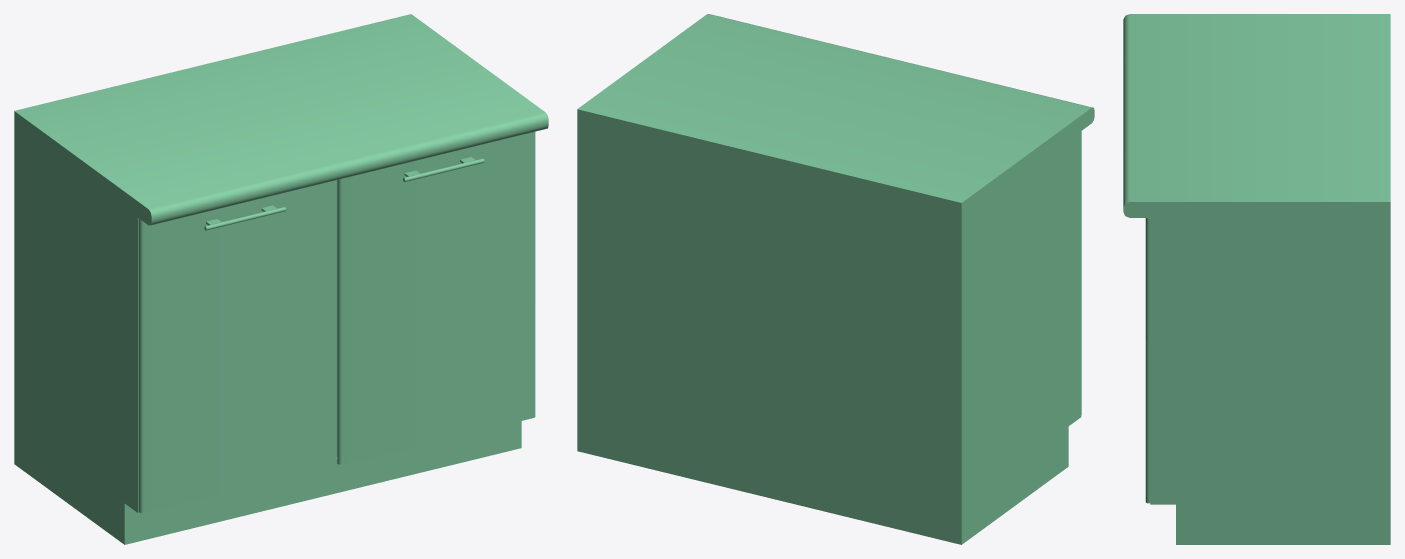
Rendered from hospital_kitchen_module_2.fbx.
The picture shows the model from 3 angles, left to right: view 1: azimuth 30°, elevation 25°; view 2: azimuth 150°, elevation 25°; view 3: azimuth 270°, elevation 25°; orthographic projection. The views are drawn at different scales.
Parts seen in each view (by area): view 1: hospital_kitchen_module_2; view 2: hospital_kitchen_module_2; view 3: hospital_kitchen_module_2.
Part boxes in pixels (<box>): hospital_kitchen_module_2: <box>14,14,548,544</box>; hospital_kitchen_module_2: <box>577,14,1094,544</box>; hospital_kitchen_module_2: <box>1123,14,1390,544</box>.
Size of the model in its own units: 100 by 85 by 60.
